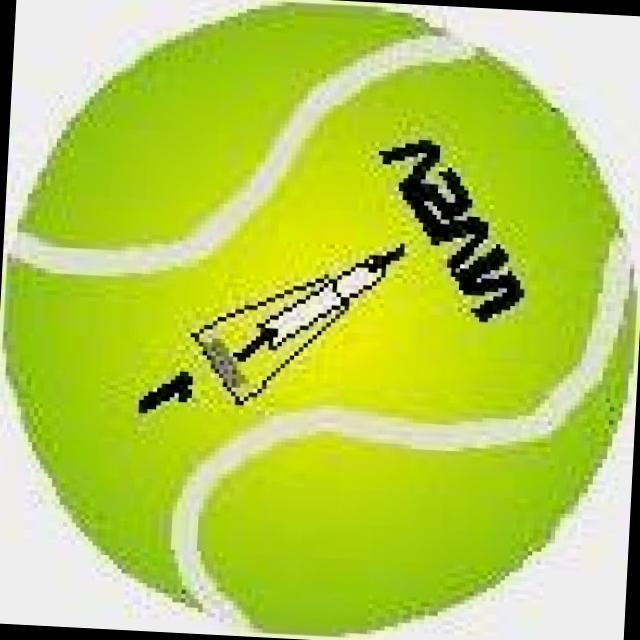Tennis Ball: (2, 2, 639, 638)
